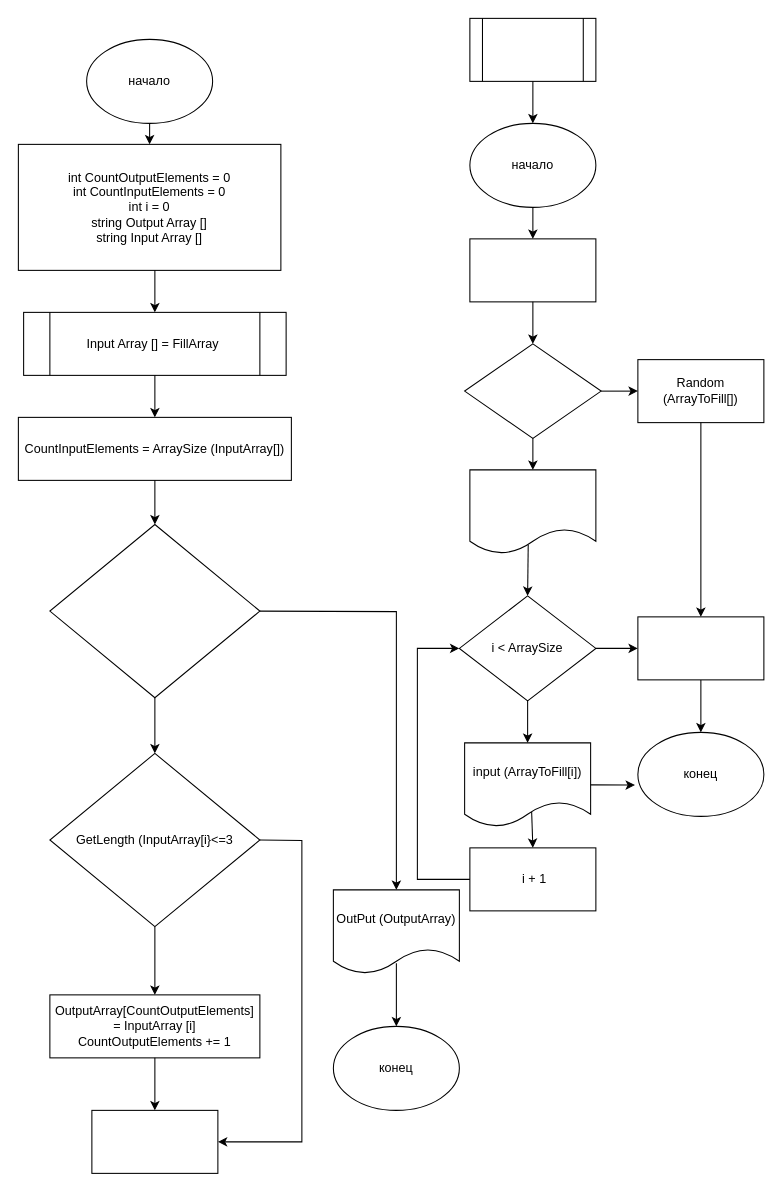
Some shapes in this 782 by 1192 pixel diagram are drawn without their labels. Here are the shapes that lost their labels. From the top down, the centre of each, then its label:
(x=532, y=49): FillArray
(x=532, y=270): string ArrayToFill[] int ArraySize int i = 0
(x=532, y=390): Get Random Array?
(x=532, y=511): Input (ArraySize)
(x=154, y=610): i<CountInputElements
(x=700, y=648): Return ArrayToFill
(x=154, y=1141): i + = 1
